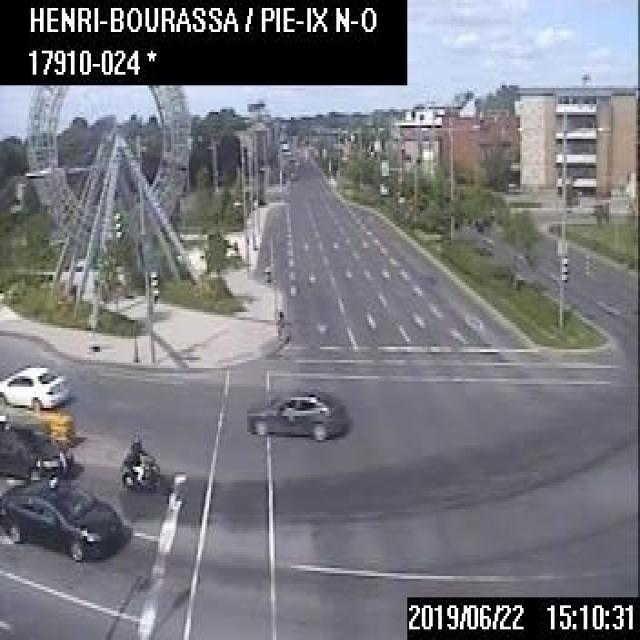construction: (582, 253, 589, 275)
vehicle: (0, 477, 120, 560), (244, 387, 347, 440), (0, 420, 71, 479), (0, 362, 67, 408), (118, 437, 158, 491)
